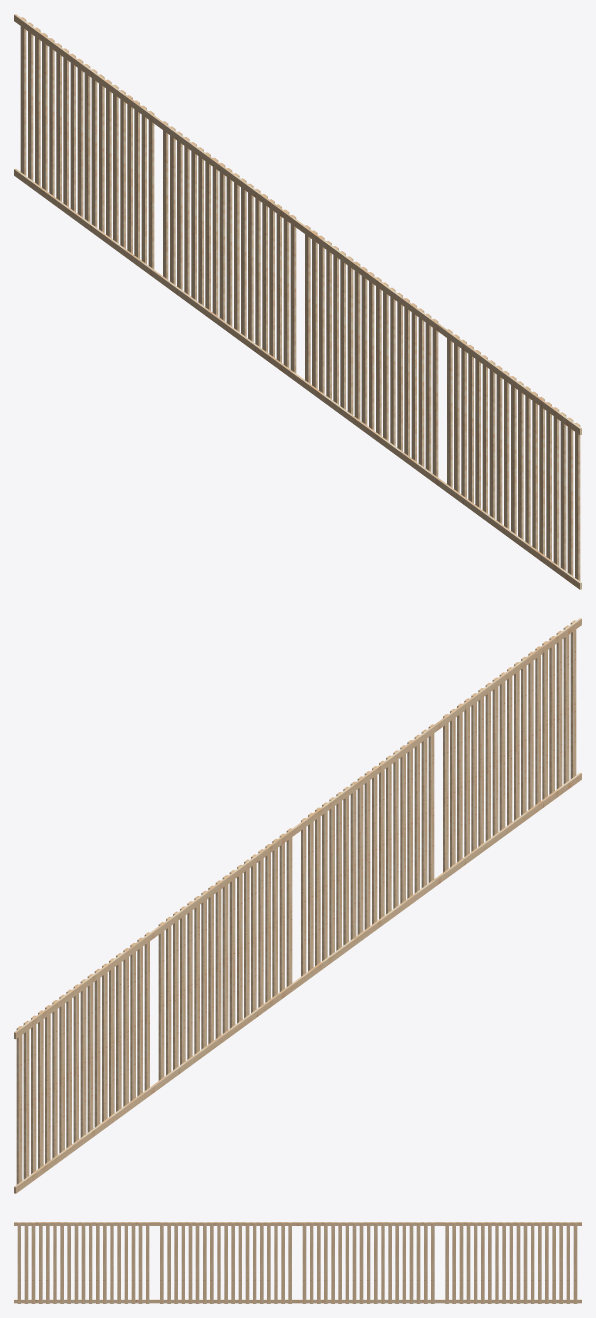
Rendered from BUILDING_OPERABLE_SLIDING WALL.fbx.
The picture shows the model from 3 angles, top to bottom: view 1: azimuth 30°, elevation 25°; view 2: azimuth 150°, elevation 25°; view 3: azimuth 270°, elevation 25°; orthographic projection. The views are drawn at different scales.
Visible parts, largest first — view 1: sliding wall; view 2: sliding wall; view 3: sliding wall.
Boxes of the visible parts, left/top/right/bottom form: sliding wall: left=14, top=14, right=581, bottom=589; sliding wall: left=14, top=618, right=581, bottom=1193; sliding wall: left=14, top=1222, right=581, bottom=1303.
Bounding box in the file's own units: 0.3333 × 79.67 × 12.5.
Materials: 1 (1 with a texture image).
